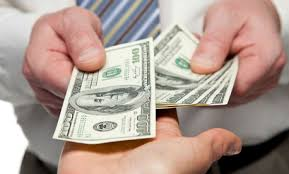billete: (53, 26, 239, 145)
